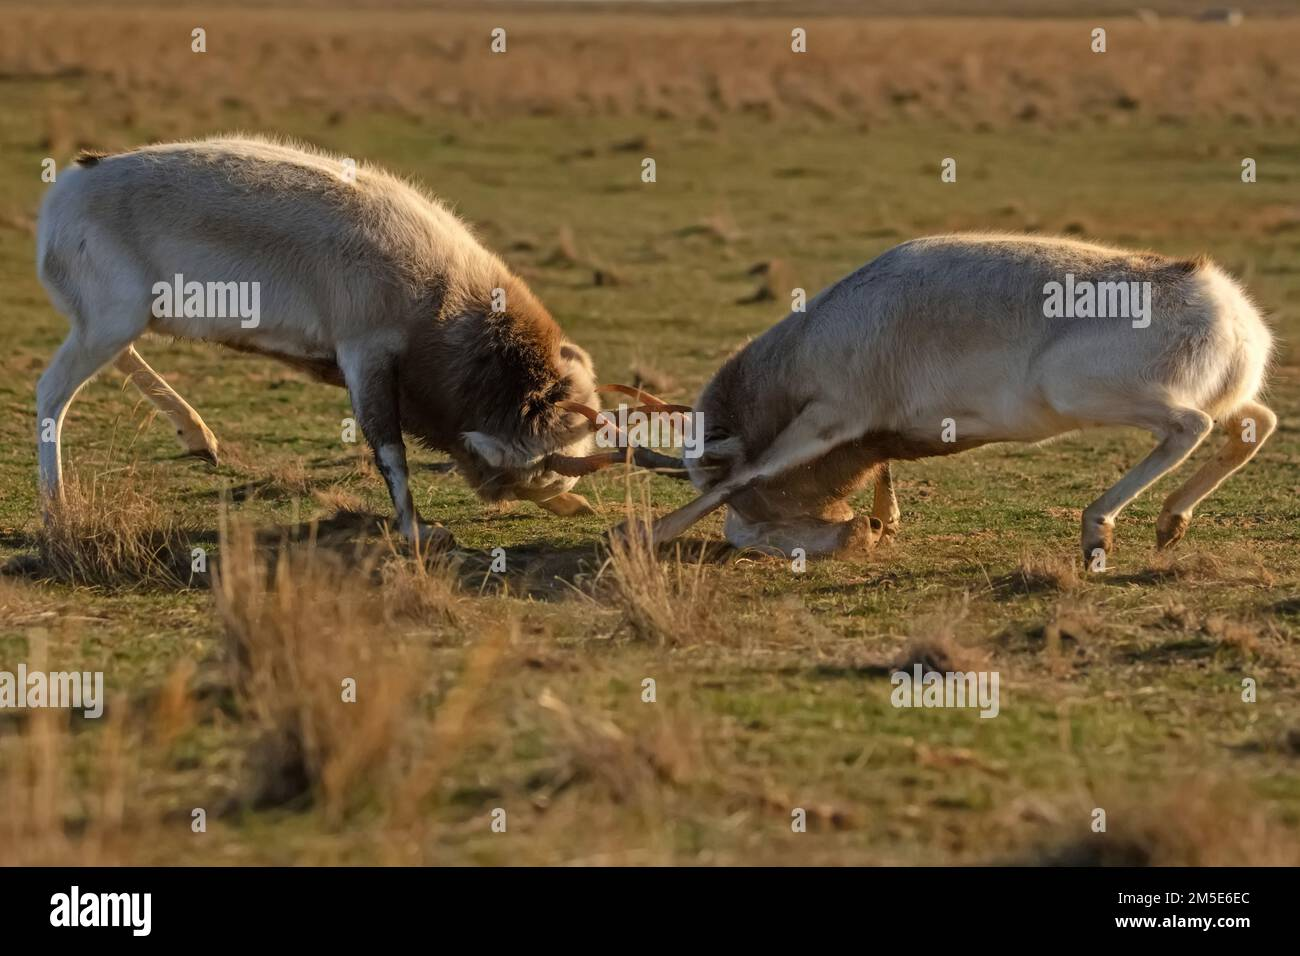saiga: (32, 150, 661, 583)
